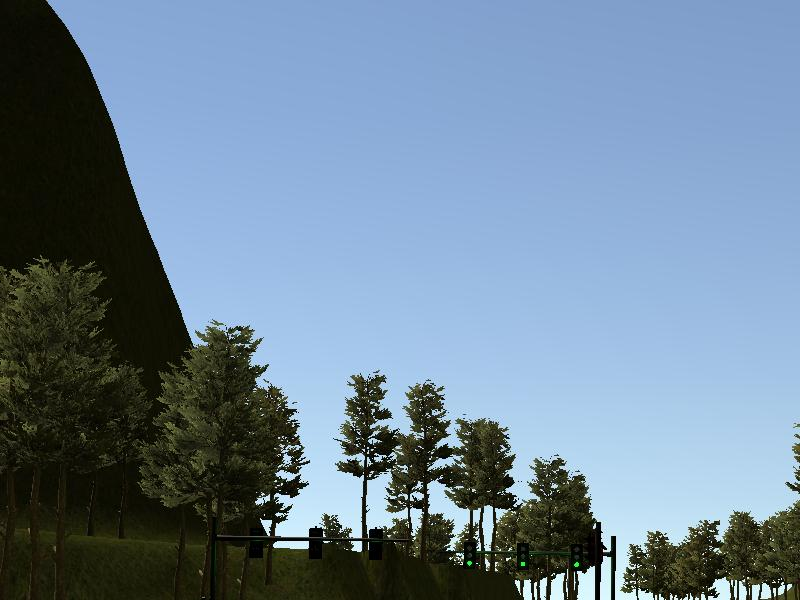Green: (464, 539, 475, 569), (516, 544, 528, 570), (569, 545, 580, 570)
